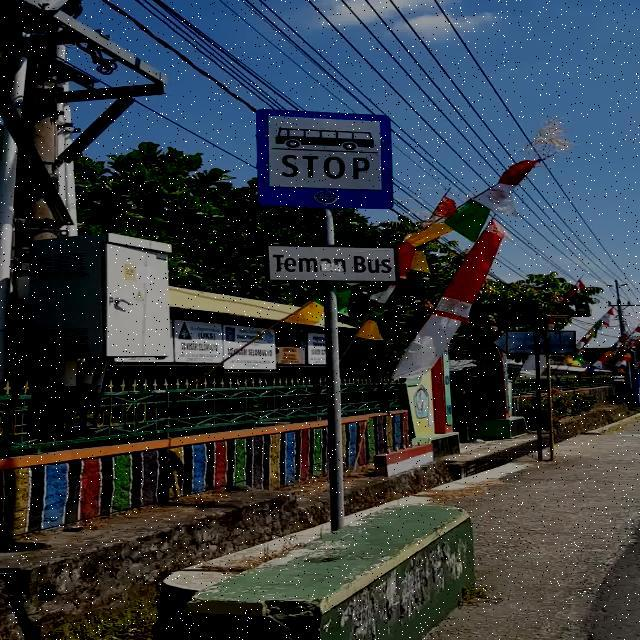Pemberhentian Bus: (255, 109, 394, 210)
